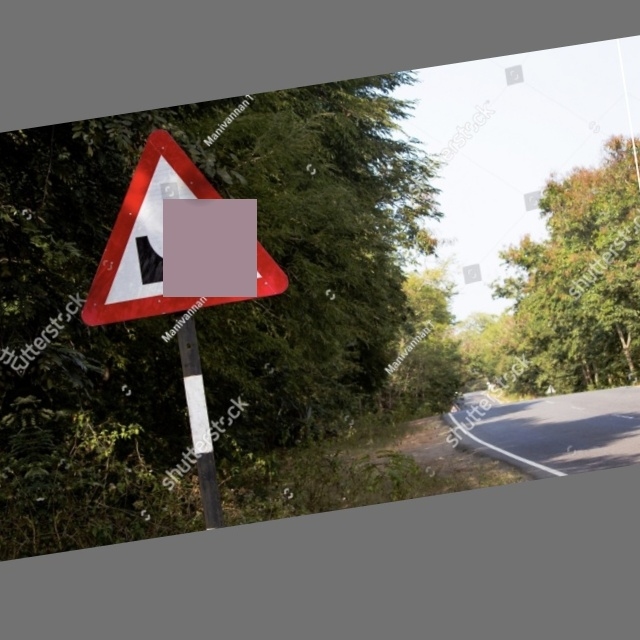Dangerous_Dip: (54, 116, 286, 325)
